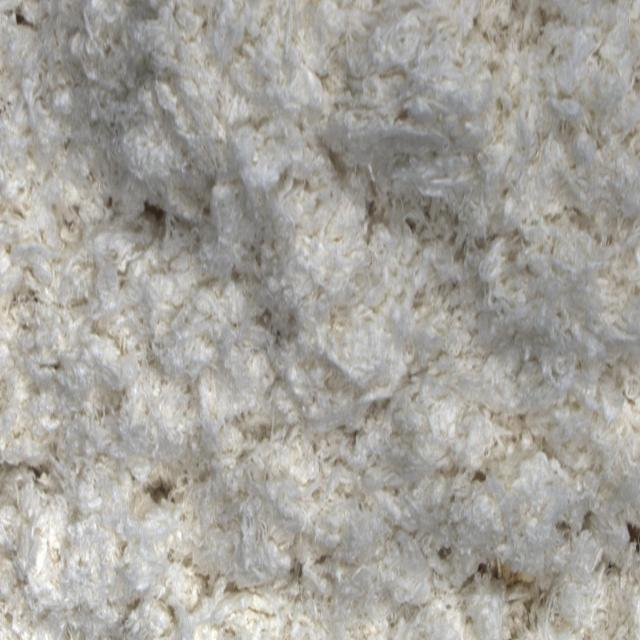dust: (140, 198, 175, 248)
